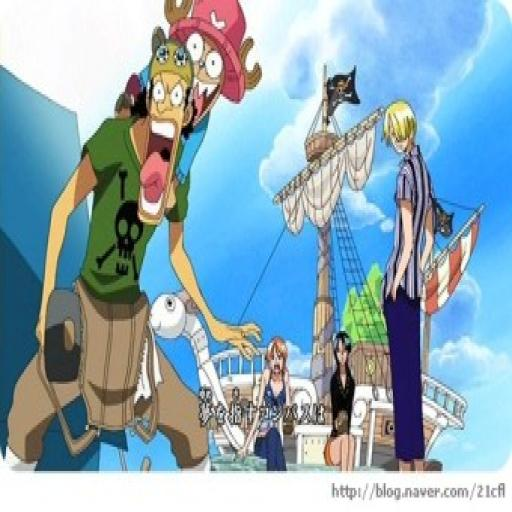Nami: (264, 333, 290, 379)
NicoRobin: (324, 326, 359, 373)
Usopp: (132, 44, 192, 230)
sanji: (380, 99, 419, 159)
